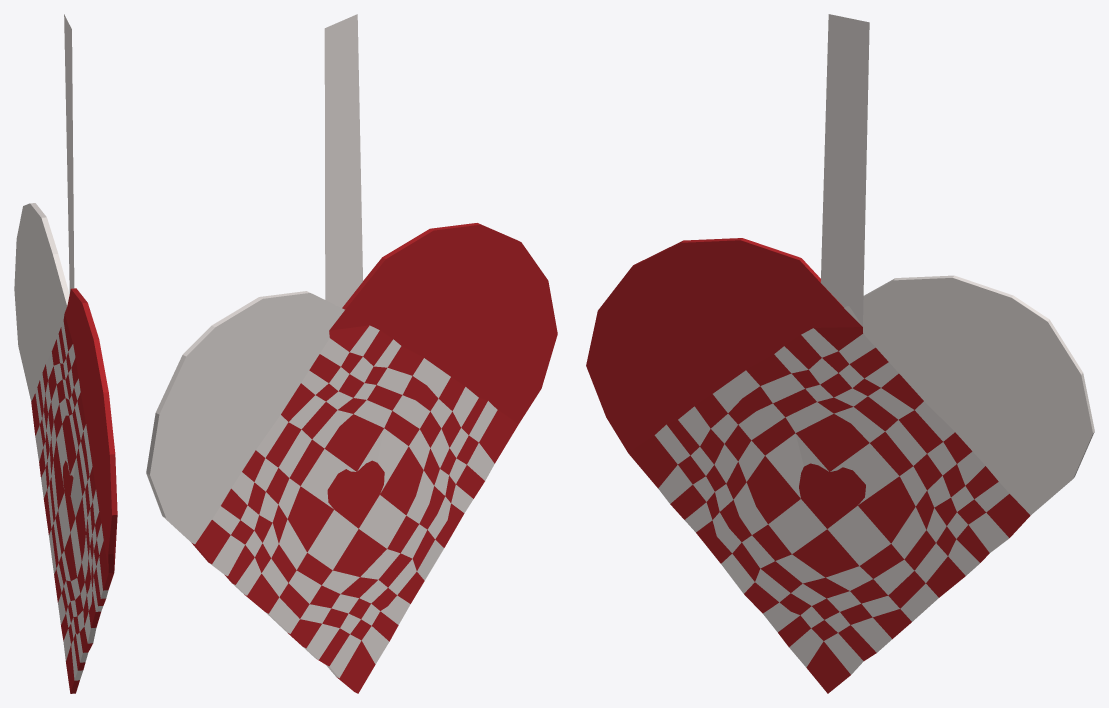
Rendered from heart8.glb.
3 views of the same model, side by side, from view 1: azimuth 30°, elevation 25°; view 2: azimuth 150°, elevation 25°; view 3: azimuth 270°, elevation 25° (orthographic). The views are drawn at different scales.
Parts seen in each view (by area): view 1: heart8; view 2: heart8; view 3: heart8.
Part boxes in pixels (x1=…): heart8: x1=14, y1=14, x2=117, y2=693; heart8: x1=146, y1=14, x2=557, y2=693; heart8: x1=586, y1=14, x2=1094, y2=693.
Bounding box in the file's own units: 0.0447 × 0.1828 × 0.1243.
